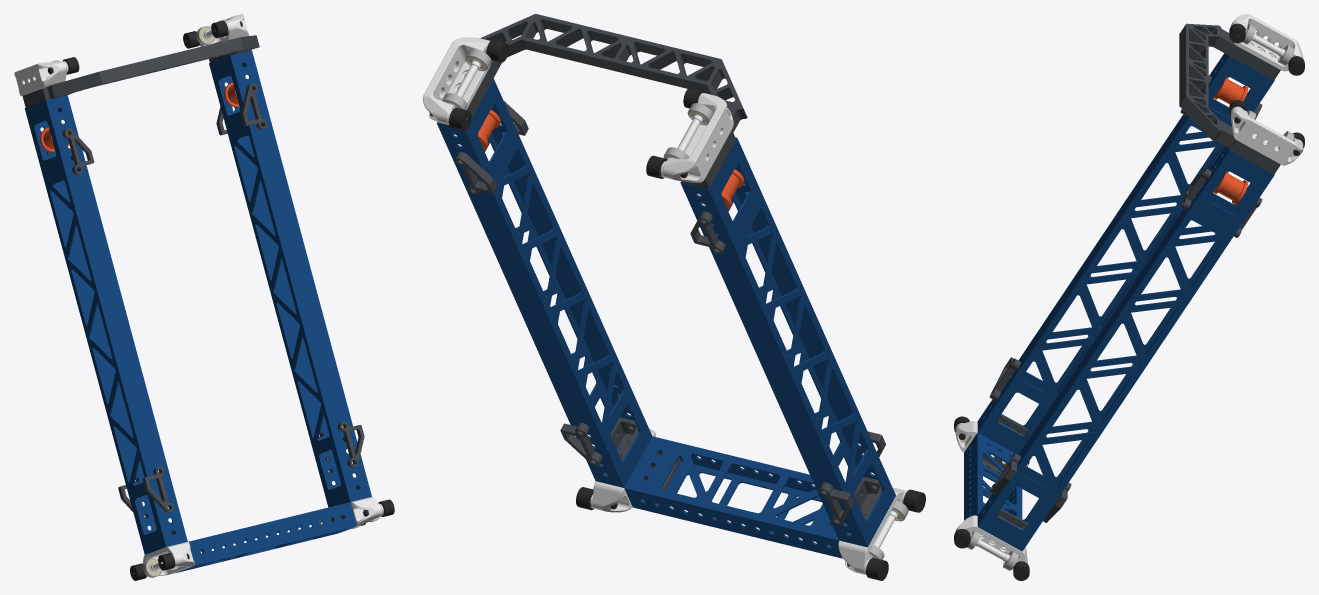
3 views of the same model, side by side, from view 1: azimuth 30°, elevation 25°; view 2: azimuth 150°, elevation 25°; view 3: azimuth 270°, elevation 25° (orthographic). The views are drawn at different scales.
Parts seen in each view (by area): view 1: Tube 2"x1"x18.5" (×2), Part 1 (×5), SDS Elevator Block (×4), Tube 2"x1"x7.5"; view 2: Tube 2"x1"x18.5" (×2), Part 1 (×7), SDS Elevator Block (×4), Tube 2"x1"x7.5"; view 3: Tube 2"x1"x18.5" (×2), Part 1 (×6), SDS Elevator Block (×4), Tube 2"x1"x7.5".
Boxes of the visible parts, x1=… form: Tube 2"x1"x18.5" (×2): x1=24, y1=50, x2=371, y2=554; Part 1 (×5): x1=22, y1=35, x2=364, y2=512; SDS Elevator Block (×4): x1=14, y1=14, x2=394, y2=580; Tube 2"x1"x7.5": x1=174, y1=502, x2=356, y2=573; Tube 2"x1"x18.5" (×2): x1=437, y1=78, x2=895, y2=547; Part 1 (×7): x1=438, y1=14, x2=881, y2=534; SDS Elevator Block (×4): x1=423, y1=37, x2=925, y2=580; Tube 2"x1"x7.5": x1=624, y1=436, x2=842, y2=558; Tube 2"x1"x18.5" (×2): x1=977, y1=53, x2=1274, y2=551; Part 1 (×6): x1=989, y1=23, x2=1280, y2=495; SDS Elevator Block (×4): x1=954, y1=14, x2=1304, y2=580; Tube 2"x1"x7.5": x1=964, y1=432, x2=1022, y2=520.
Bounding box in the file's own units: 0.268 × 0.4935 × 0.3391.
